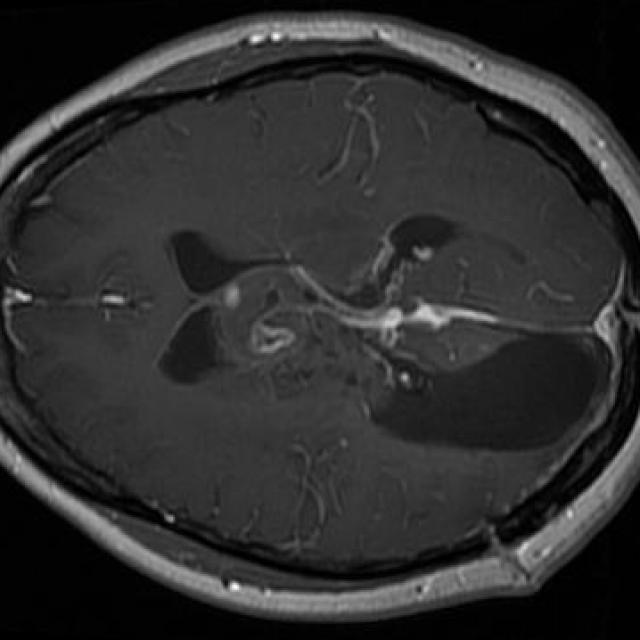glioma: (219, 216, 615, 449)
